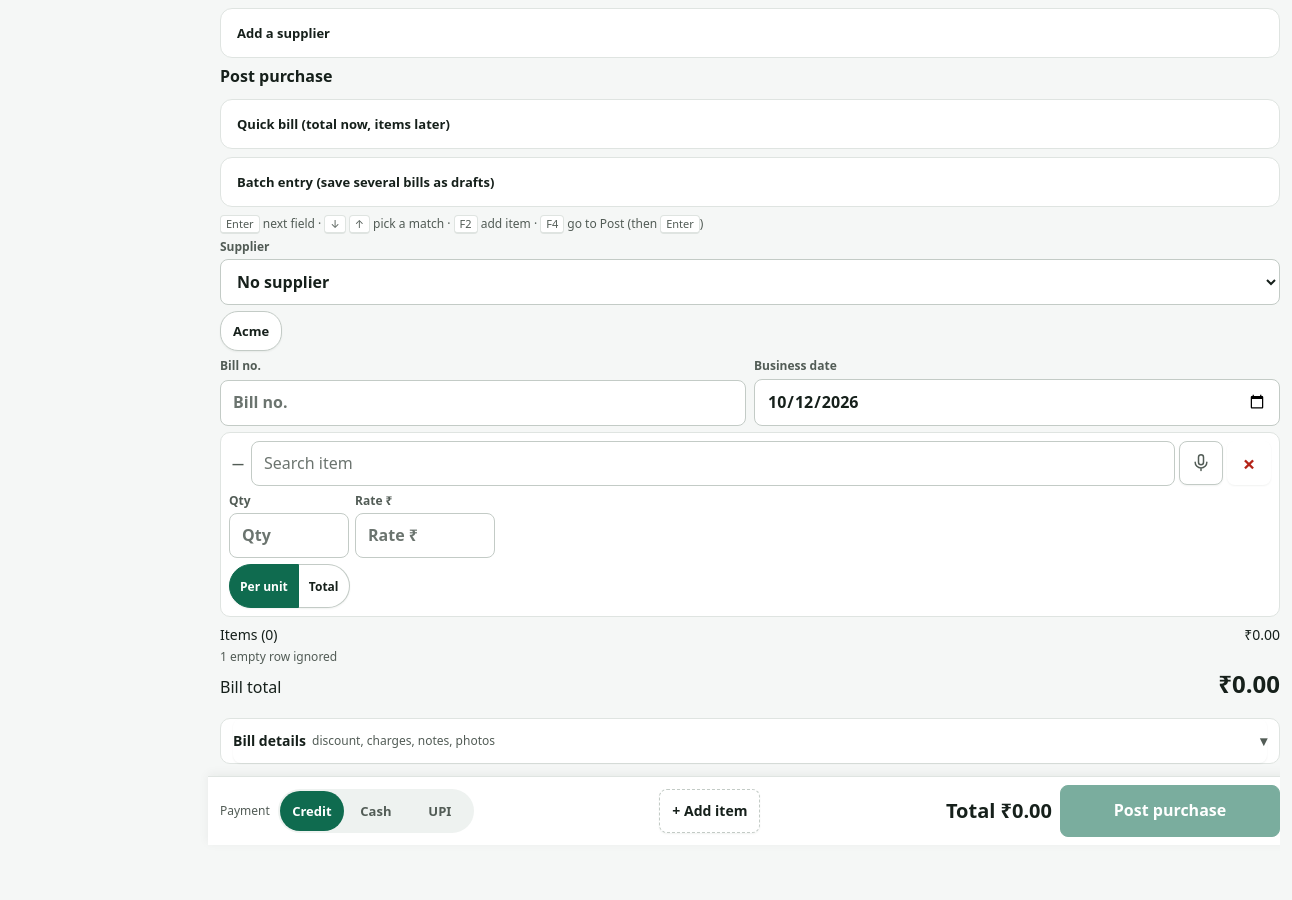
Test case: a payload mismatch is a final refusal shown clearly; nothing is resent
Expected: the date field named "date" holds "2026-10-12", 754,378 -> 1280,426
Type "Item A" into the field with placeholder "Search item" at (713, 463), box 251,441 -> 1175,486
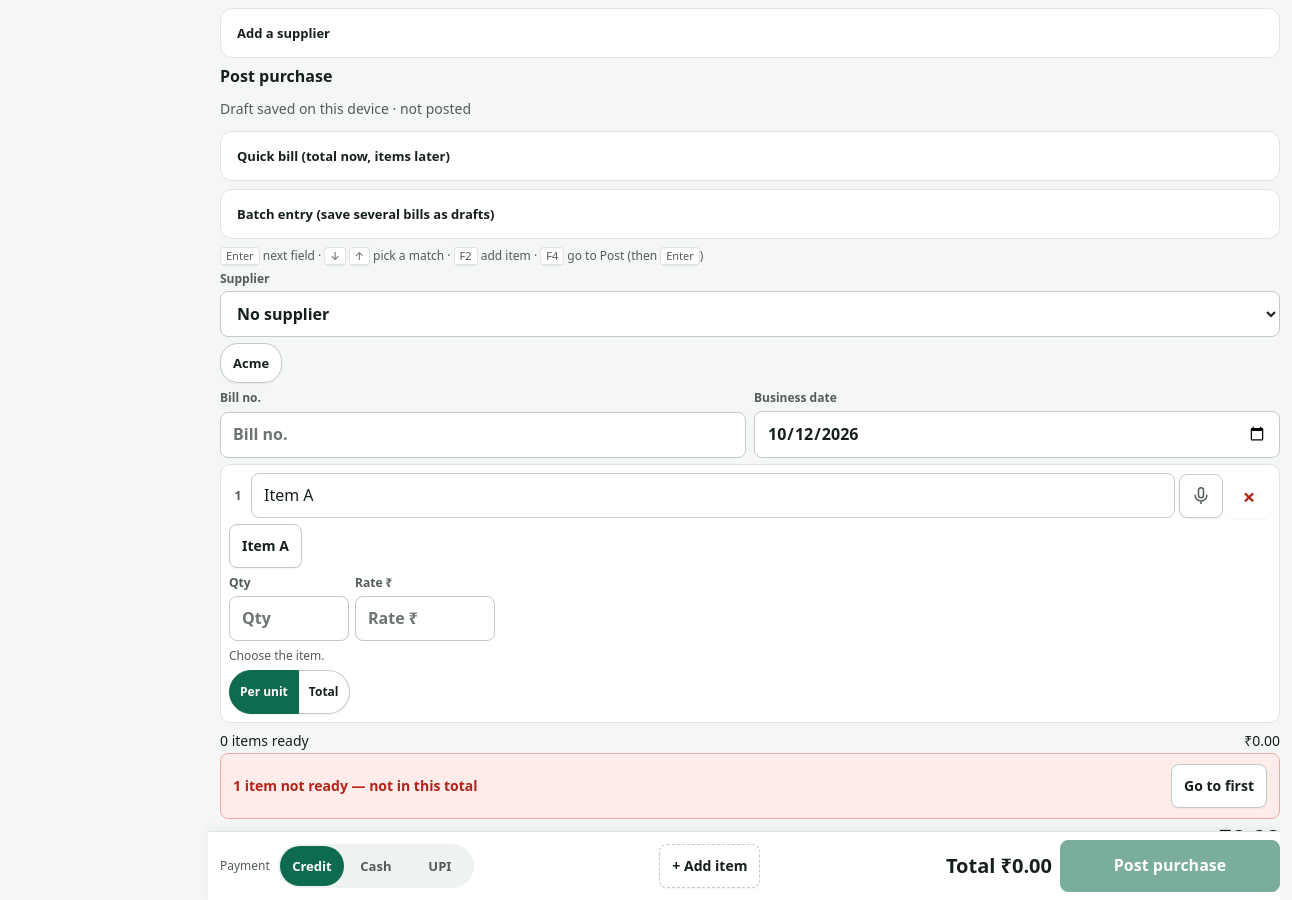
Click the button "Item A" at (265, 546), box 229,524 -> 302,568
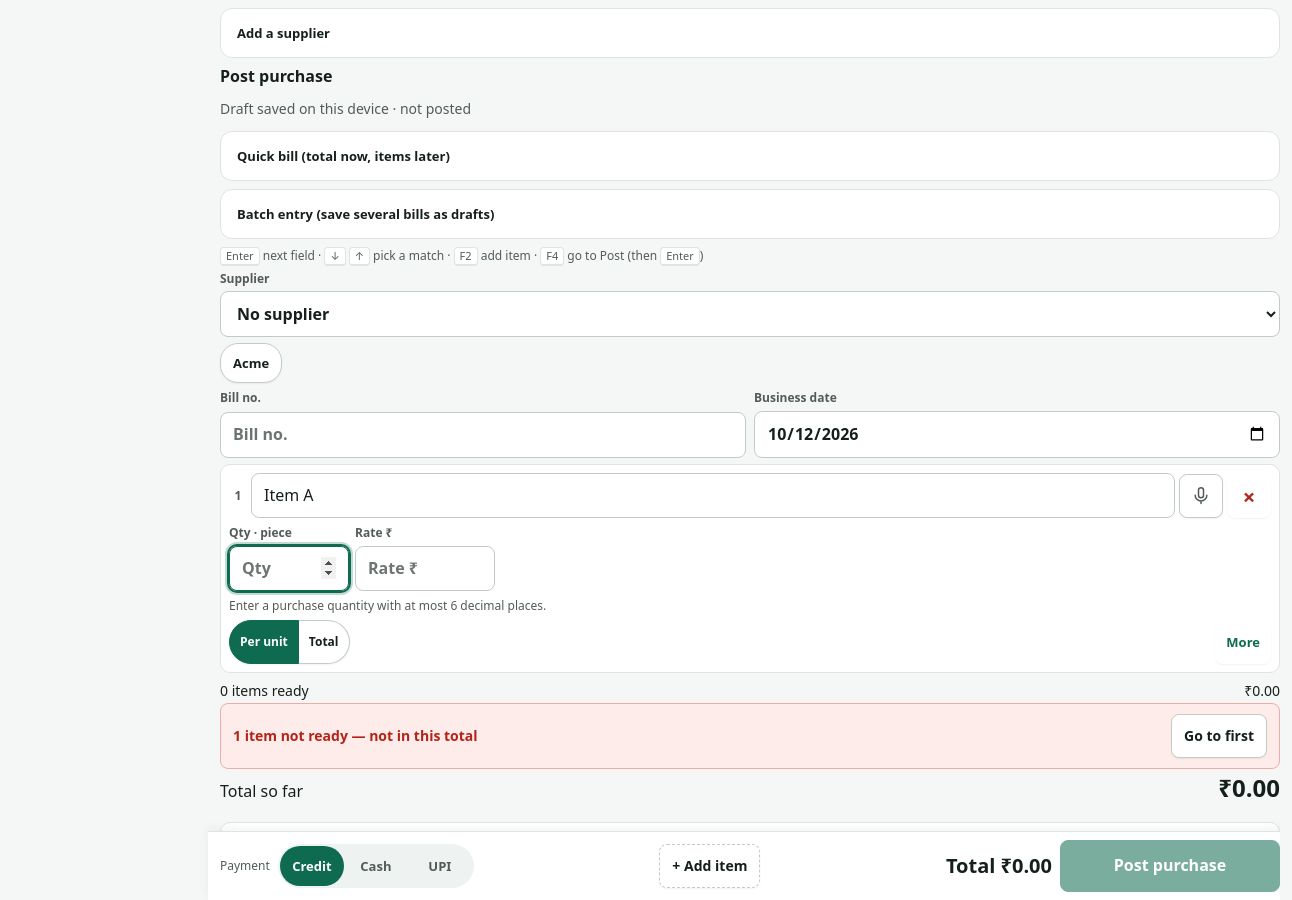
Type "1" into the number field labelled "Qty · piece" at (289, 568), box 229,546 -> 349,591
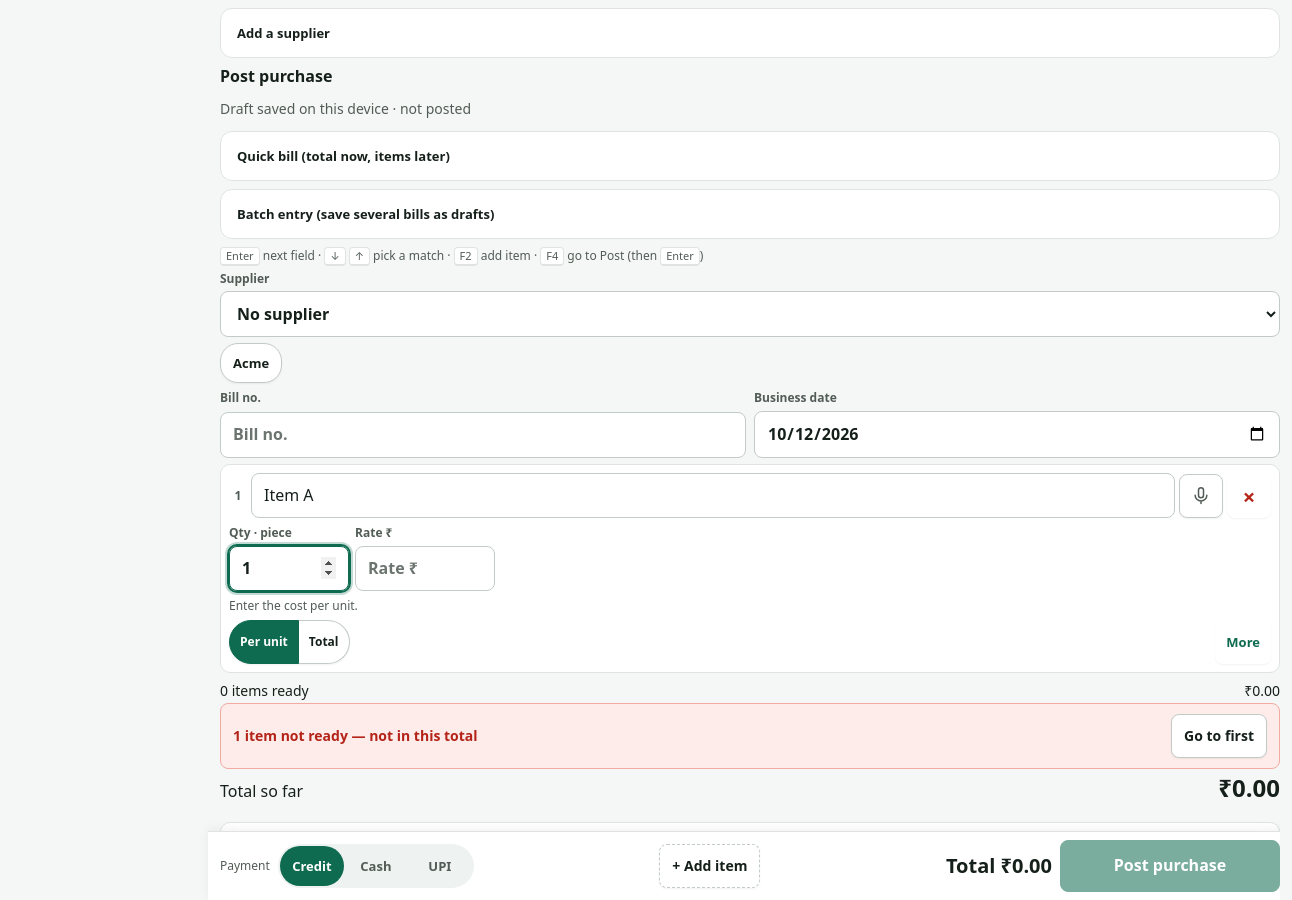
Type "10" into the number field with placeholder "Rate ₹" at (425, 568), box 355,546 -> 495,591
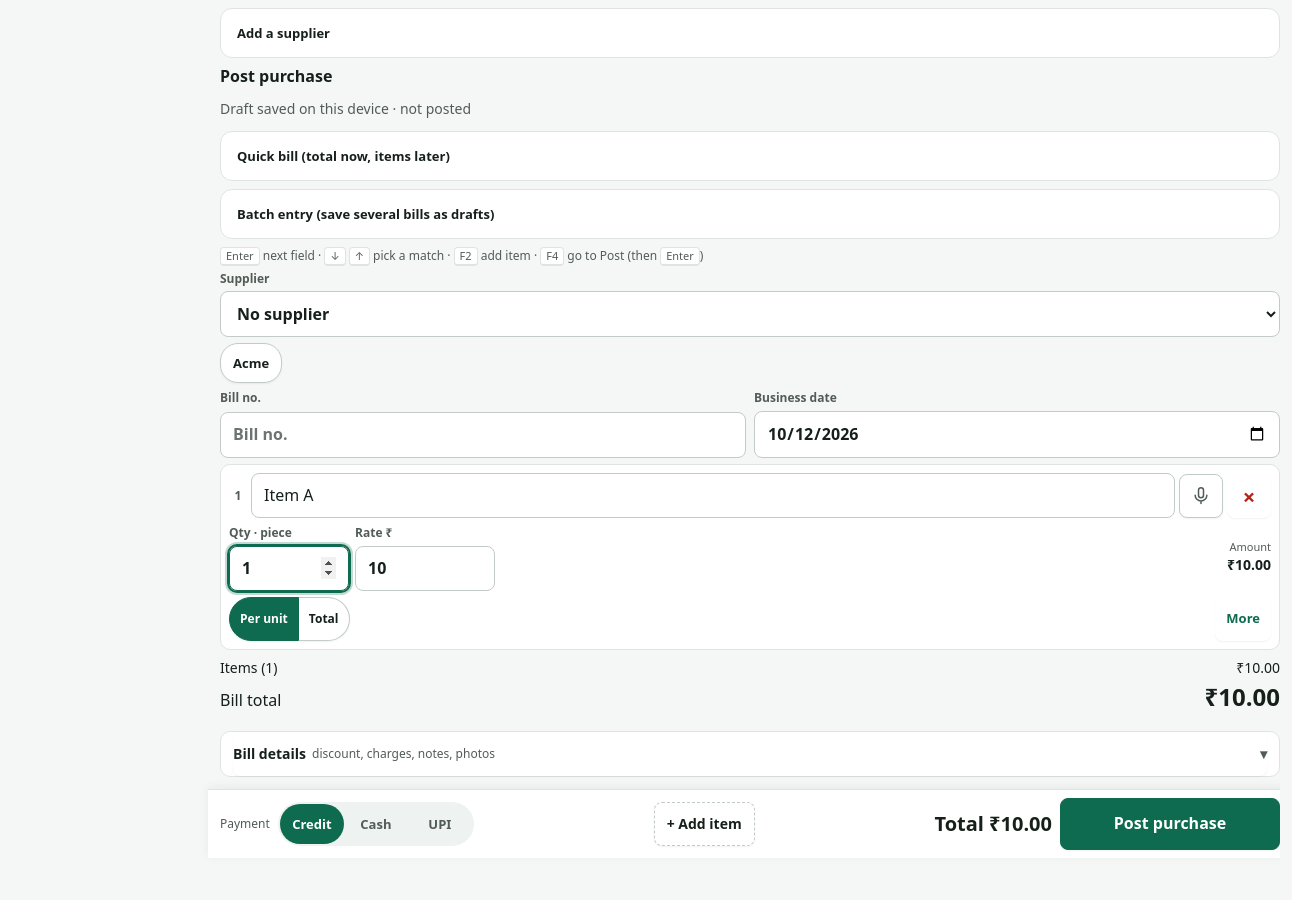
Click the button "Post purchase" at (1170, 824), box 1060,798 -> 1280,850
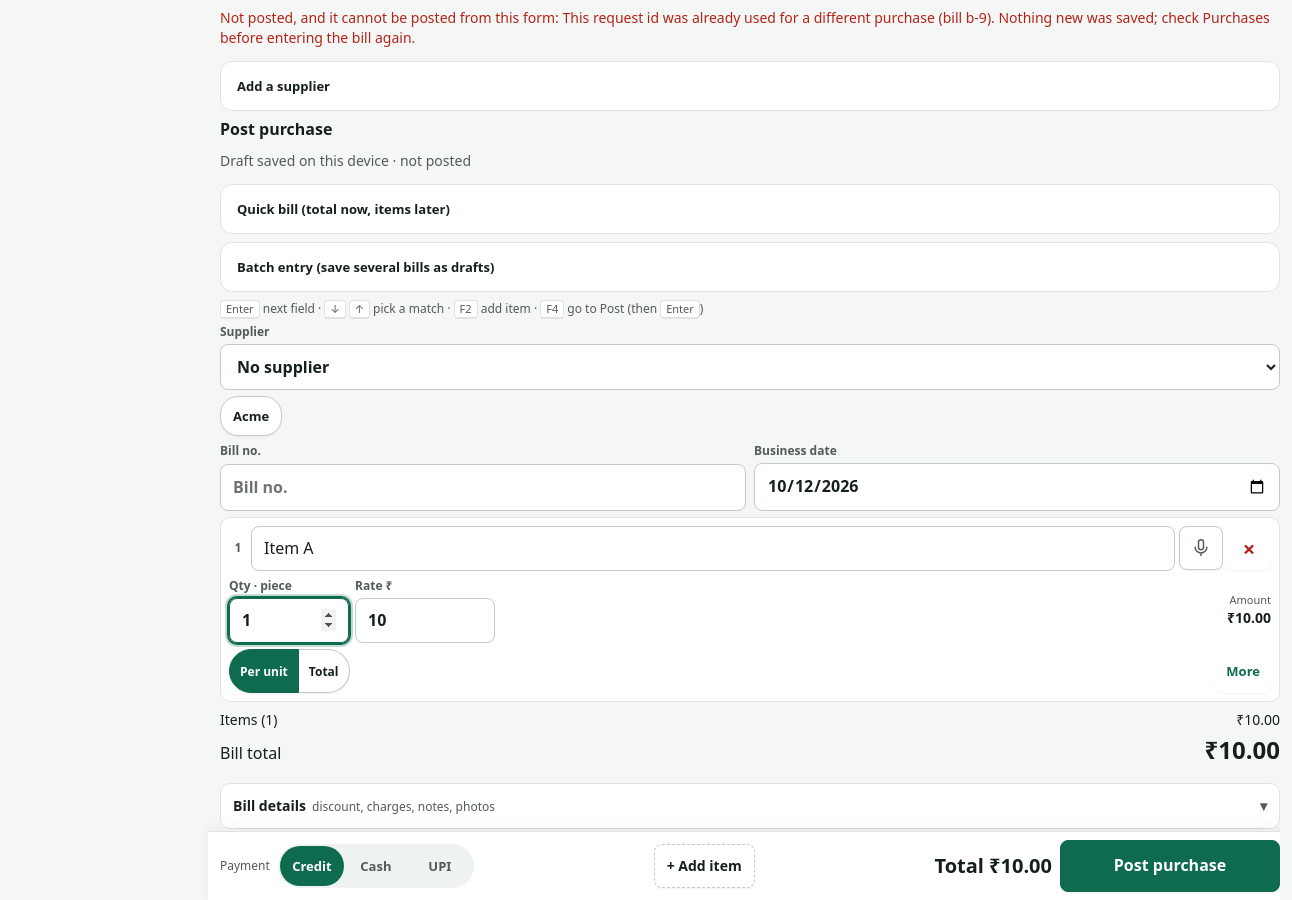
Expected: the button "Post purchase" is shown, 1060,840 -> 1280,892
Expected: the text "Not posted, and it cannot be posted from this form" is shown, 220,8 -> 1270,47
Expected: the text "already used for a different purchase (bill b-9)" is shown, 220,8 -> 1270,47
